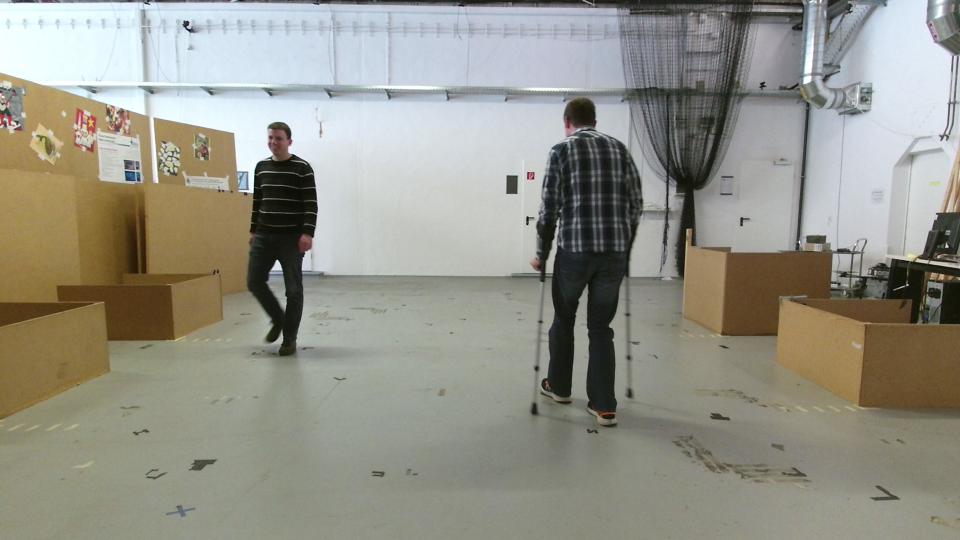crutches: (517, 86, 658, 449)
